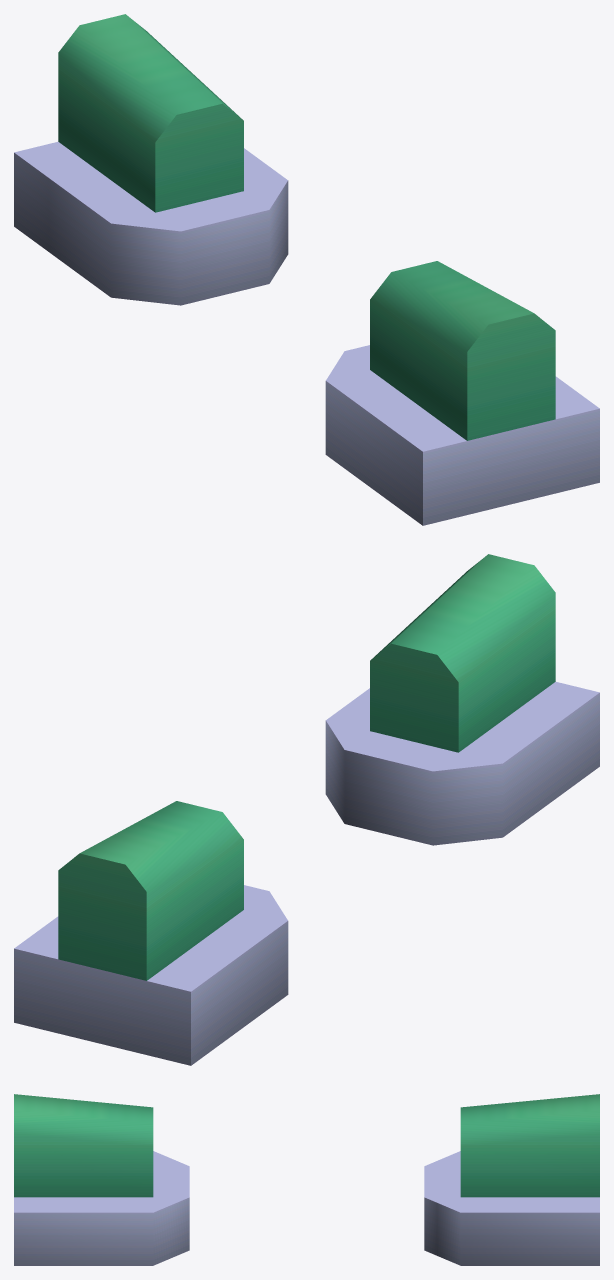
Rendered from hedge-gate.glb.
3 views of the same model, one above another, from view 1: azimuth 30°, elevation 25°; view 2: azimuth 150°, elevation 25°; view 3: azimuth 270°, elevation 25° (orthographic). The views are drawn at different scales.
Parts seen in each view (by area): view 1: hedge-gate; view 2: hedge-gate; view 3: hedge-gate.
Boxes of the visible parts, <box> form: hedge-gate: <box>14,14,599,525</box>; hedge-gate: <box>14,554,599,1065</box>; hedge-gate: <box>14,1094,599,1265</box>.
Bounding box in the file's own units: 0.25 × 0.25 × 1.
1 material, 1 textured.
